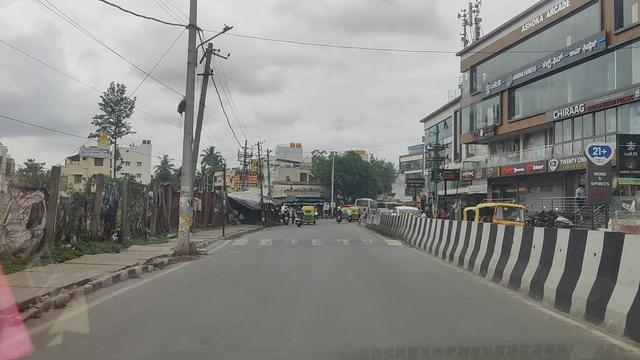SpeedBump: (224, 235, 405, 247)
